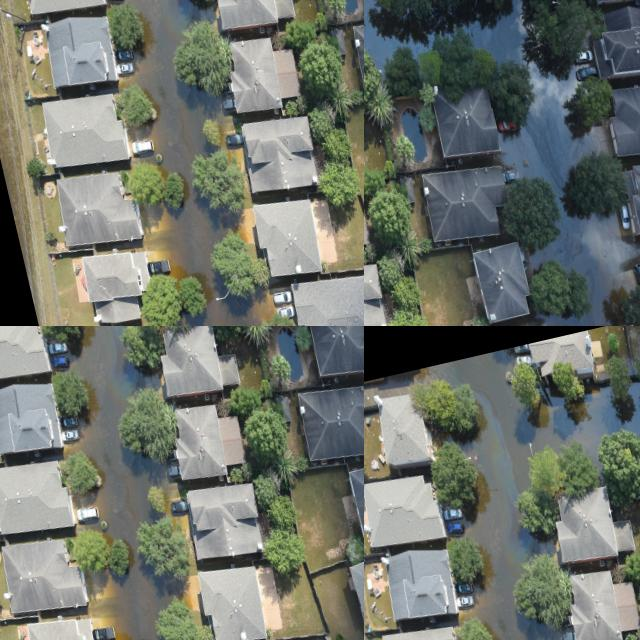fire: (429, 351, 640, 640)
